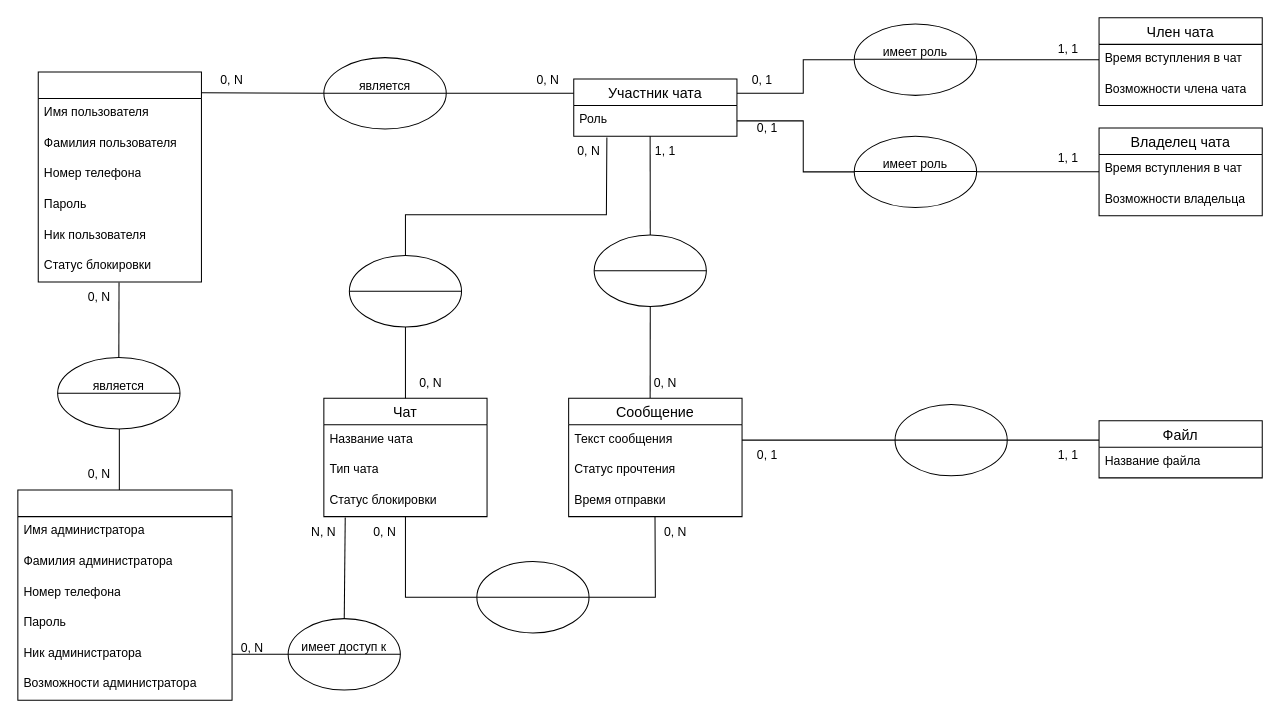
The diagram is 1280 pixels wide and 721 high, and some of its shapes have lost their labels. The box of each missing label's shape, as (x1, y1, x2, y2) in pixels:
Администратор системы: (17, 489, 232, 700)
опубликовано в: (476, 560, 589, 633)
отправляет: (593, 234, 706, 307)
Пользователь: (37, 71, 201, 282)
содержит: (894, 403, 1007, 476)
состоит в: (348, 254, 462, 327)
